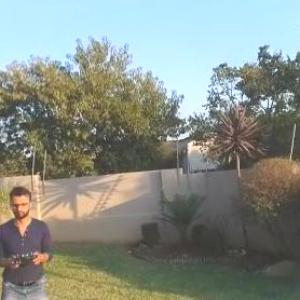follow: (1, 181, 58, 299)
